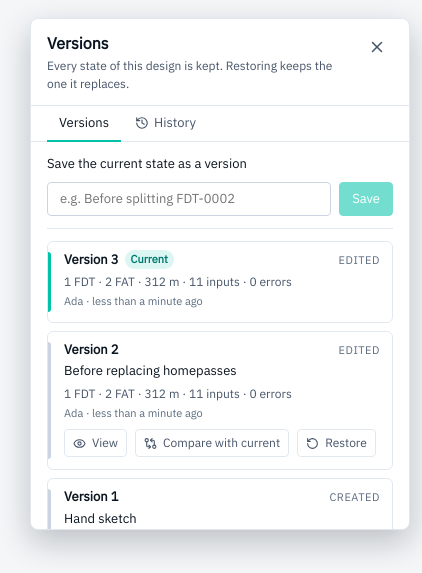
Test: VersionsDrawer › saves the current state under a name
Type "Before splitting" into the field labelled "Save the current state as a version" at (189, 198), box 47,182 -> 331,216
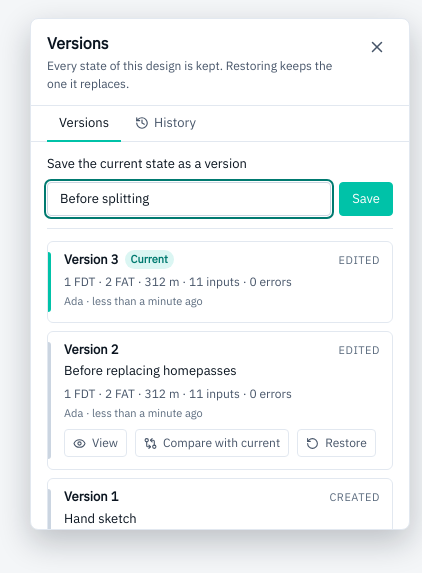
Click the button "Save" at (366, 198), box 339,182 -> 393,216
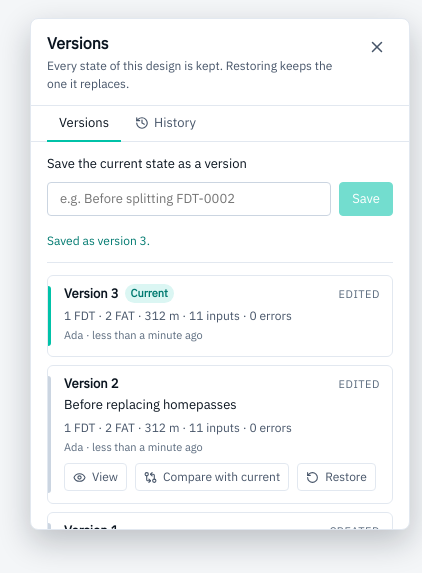
Now the text "Saved as version 3." is shown, box 47,232 -> 150,248
